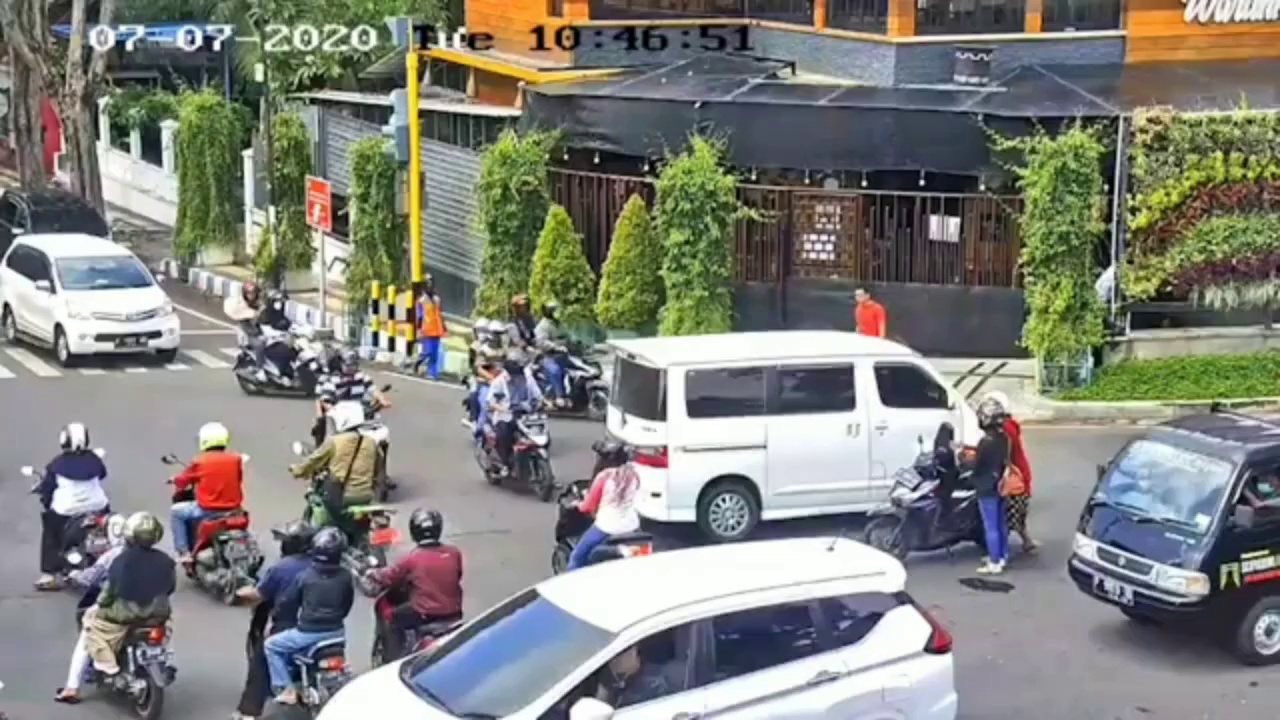car: (322, 542, 962, 717), (606, 338, 1009, 537), (1079, 407, 1280, 660), (1, 231, 183, 368), (2, 185, 118, 285)
motorbike: (251, 520, 350, 720), (292, 396, 389, 596), (364, 502, 467, 687), (175, 421, 254, 610), (551, 437, 650, 586), (495, 291, 606, 421), (38, 419, 116, 598), (481, 349, 557, 499), (235, 282, 324, 402)
